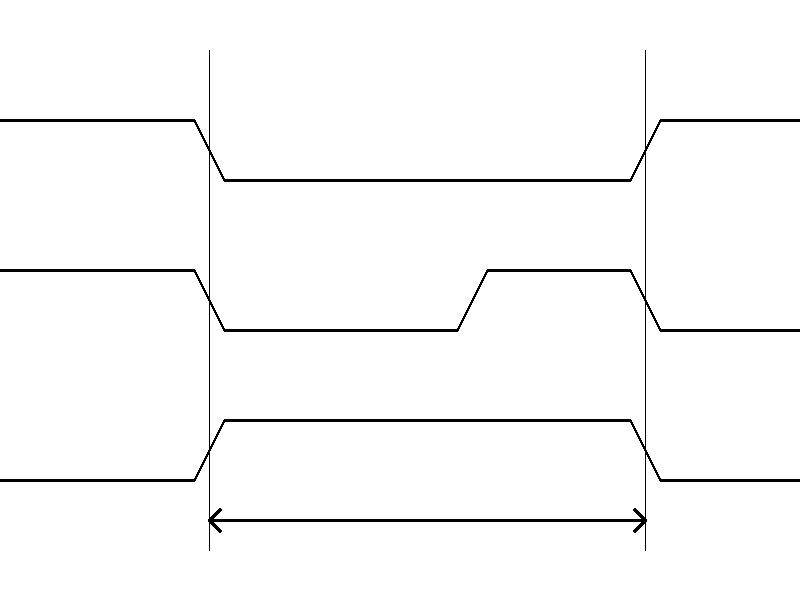double_arrow: (209, 505, 645, 535)
